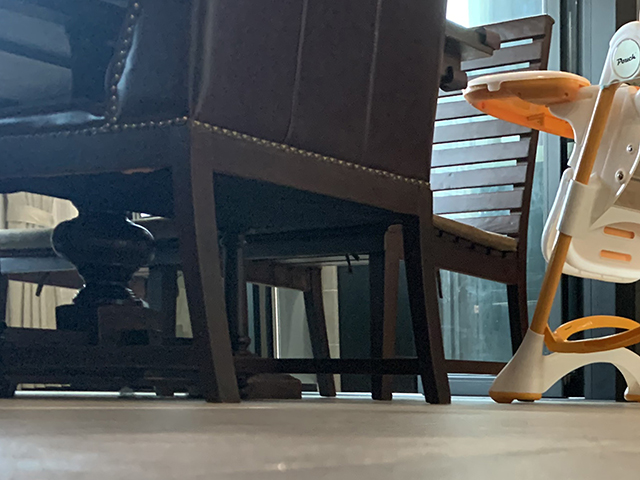stool: (1, 1, 452, 405), (391, 13, 554, 406)
